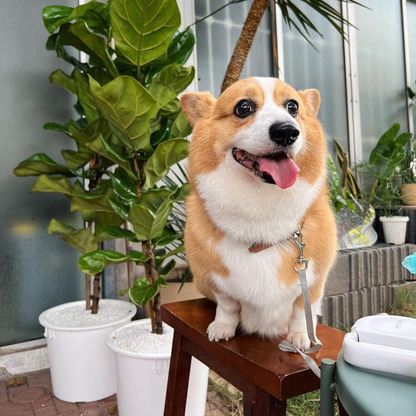Corgi: (162, 74, 375, 378)
